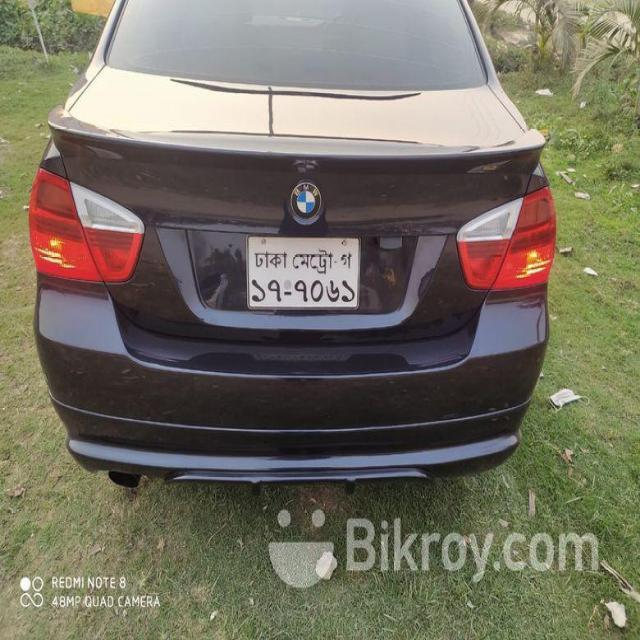numberplate: (245, 234, 360, 311)
